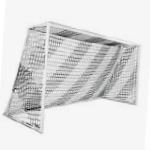goals: (1, 20, 143, 134)
